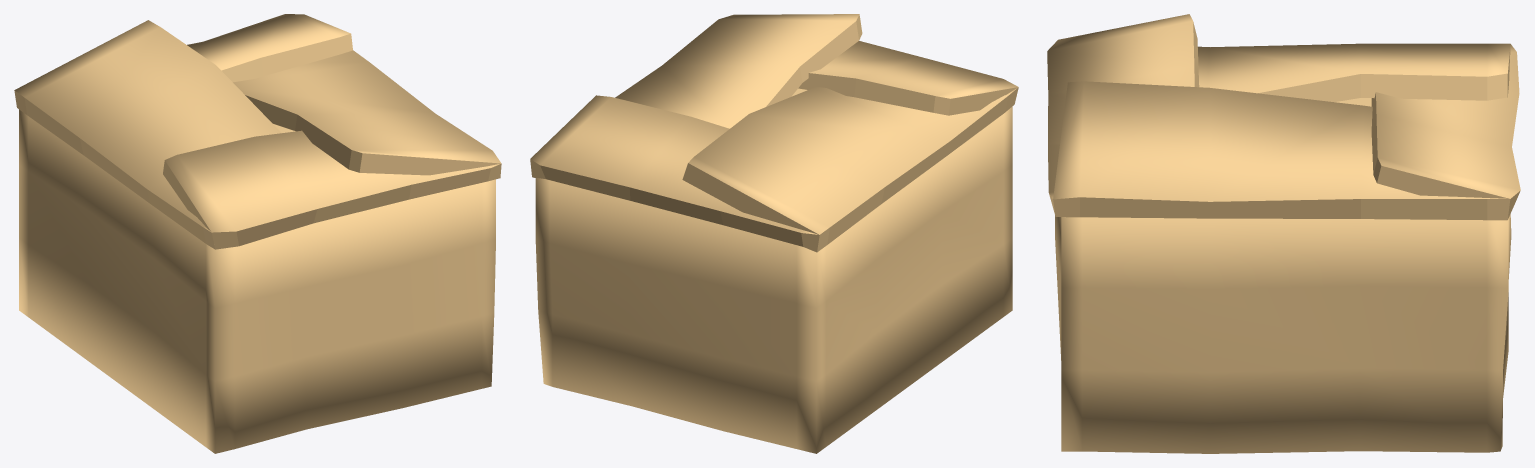
The model's file is CardboardBox001.fbx.
3 views of the same model, side by side, from view 1: azimuth 30°, elevation 25°; view 2: azimuth 150°, elevation 25°; view 3: azimuth 270°, elevation 25° (orthographic). The views are drawn at different scales.
Parts seen in each view (by area): view 1: cardboardBox; view 2: cardboardBox; view 3: cardboardBox.
Boxes of the visible parts, bbox=[...] form: cardboardBox: bbox=[14, 14, 501, 453]; cardboardBox: bbox=[530, 14, 1018, 453]; cardboardBox: bbox=[1047, 14, 1520, 453].
Size of the model in its own units: 41.38 by 35.63 by 51.17.
